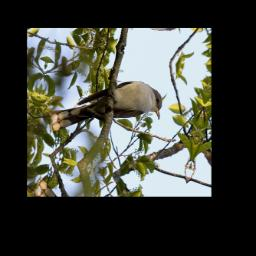Cuckoo: (48, 59, 167, 160)
